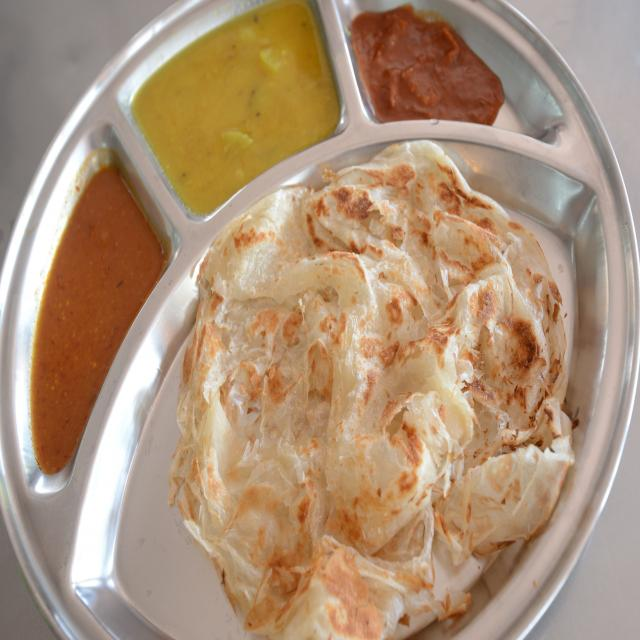Paratha: (191, 176, 563, 634)
